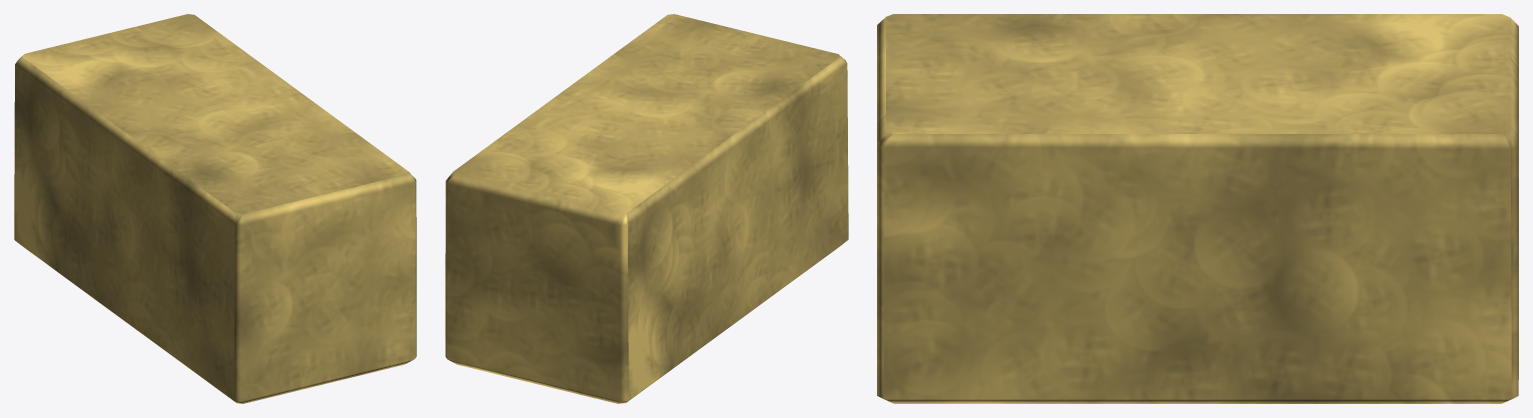
Rendered from Brick.fbx.
3 renders of one model, left to right at view 1: azimuth 30°, elevation 25°; view 2: azimuth 150°, elevation 25°; view 3: azimuth 270°, elevation 25°, orthographic. The views are drawn at different scales.
Visible parts, largest first — view 1: pCube1; view 2: pCube1; view 3: pCube1.
Part boxes in pixels (left/top/right/bottom): pCube1: left=14, top=14, right=416, bottom=403; pCube1: left=445, top=14, right=848, bottom=403; pCube1: left=877, top=14, right=1518, bottom=403.
Bounding box in the file's own units: 0.4687 × 0.4661 × 1.
